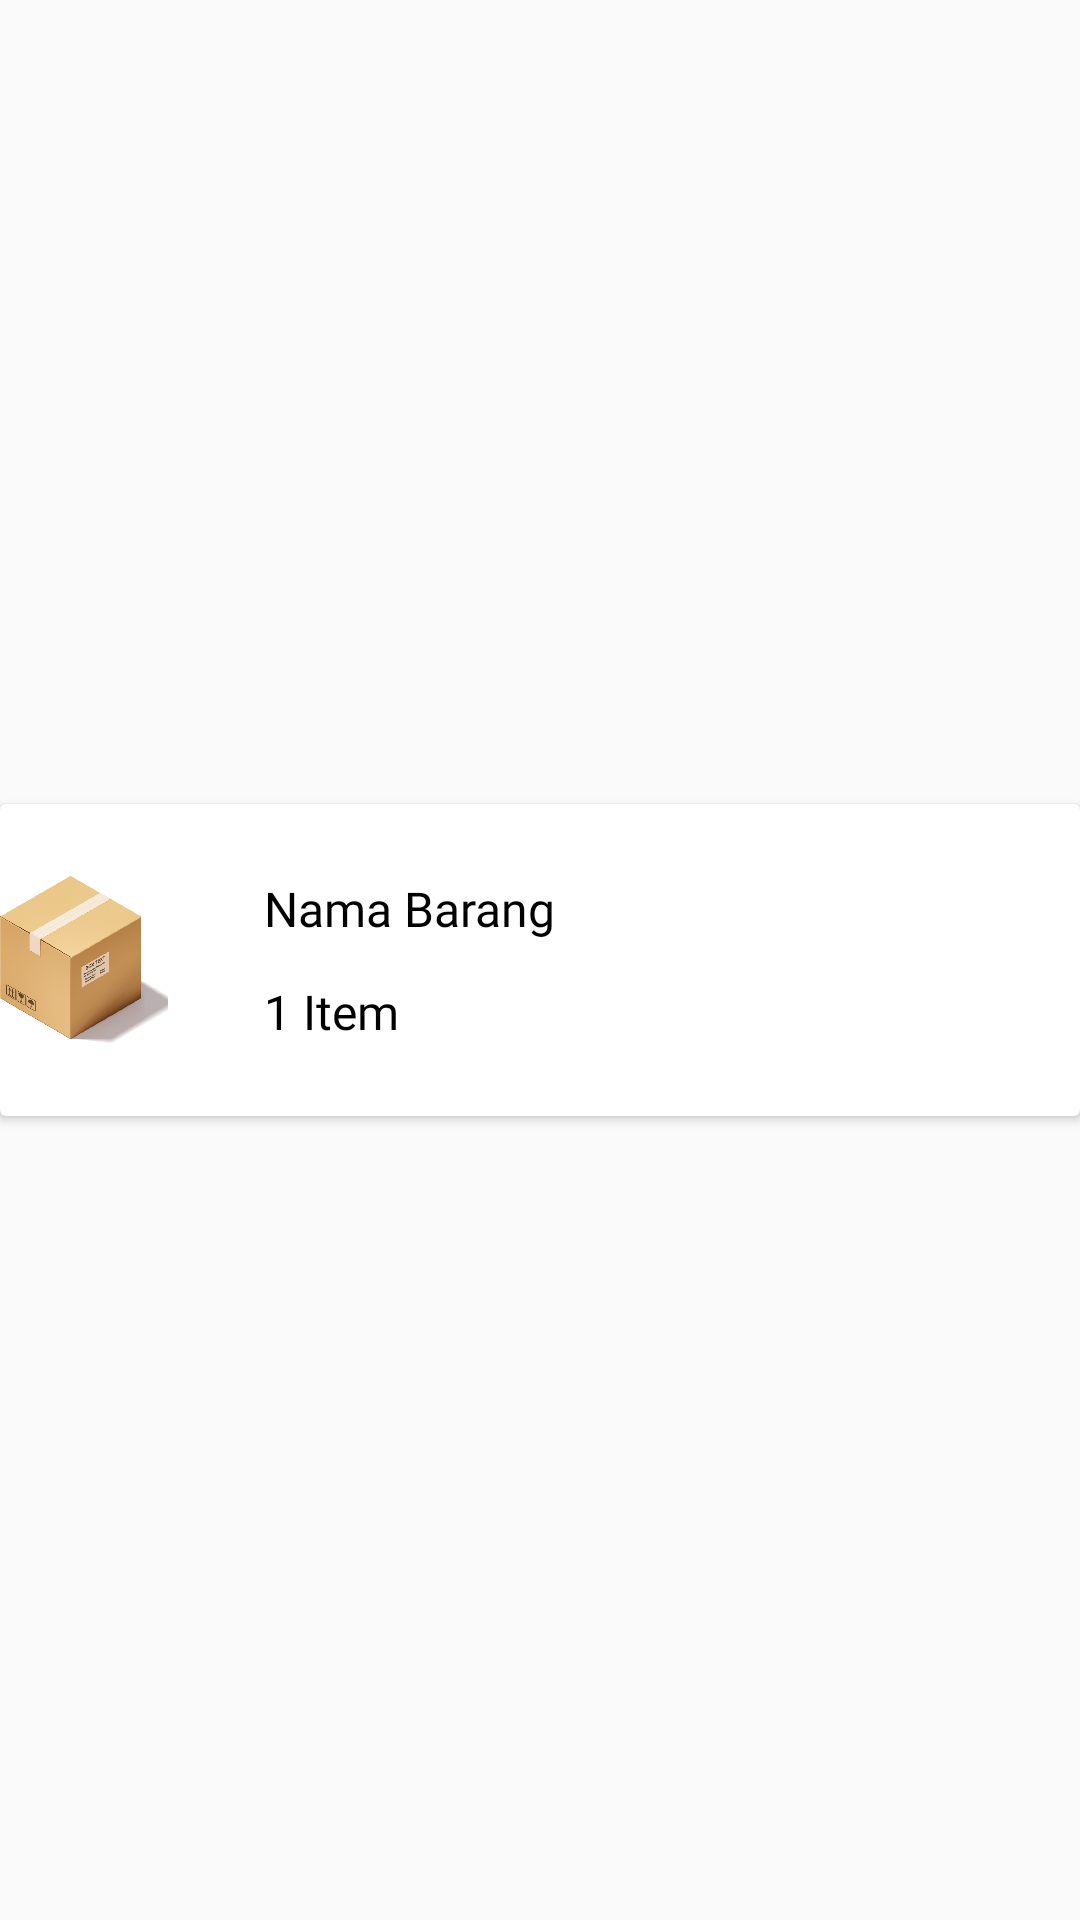

Where to tap for icons on this 1080w x 1920h app screen, as (x,y):
boxdefault: (84,959)
